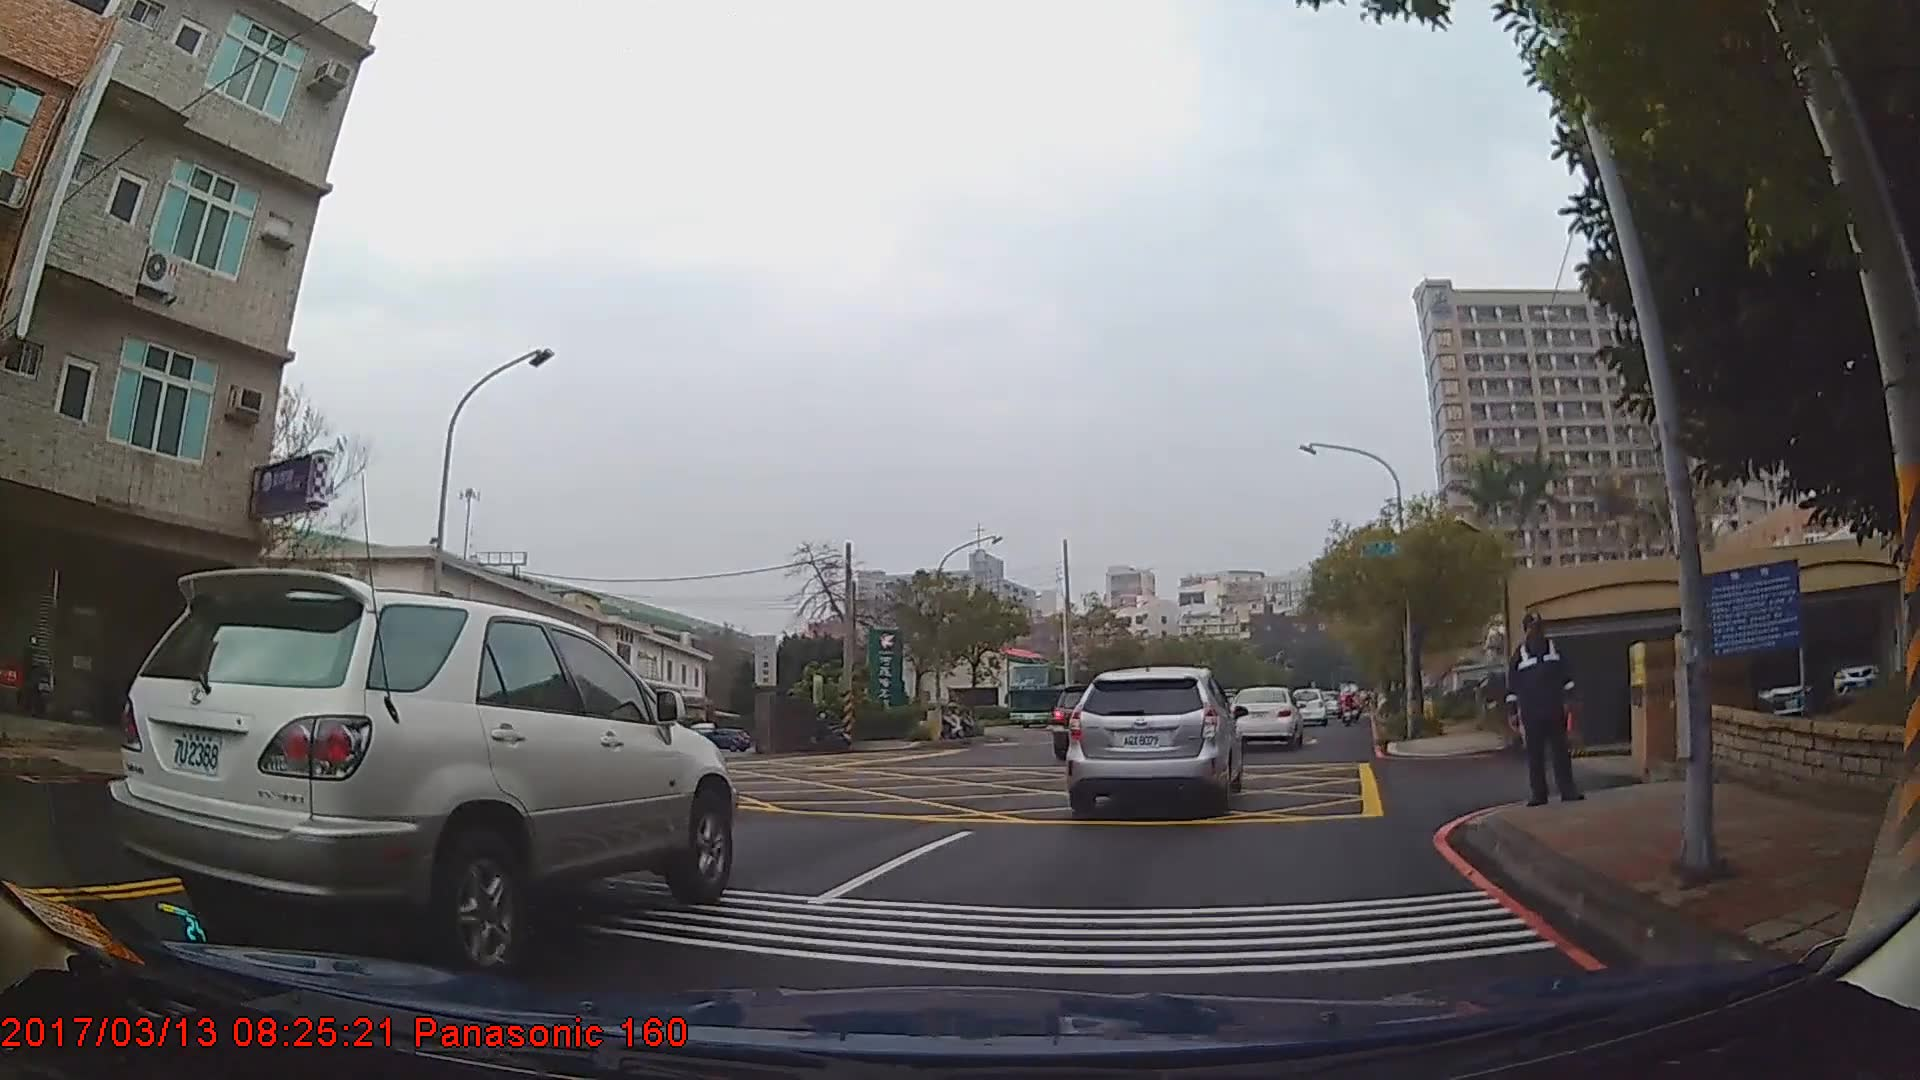pedestrian: (1508, 609, 1582, 808)
vehicle: (104, 561, 733, 975), (1067, 662, 1243, 812), (1225, 686, 1303, 751), (1290, 686, 1328, 727), (694, 726, 749, 748)
